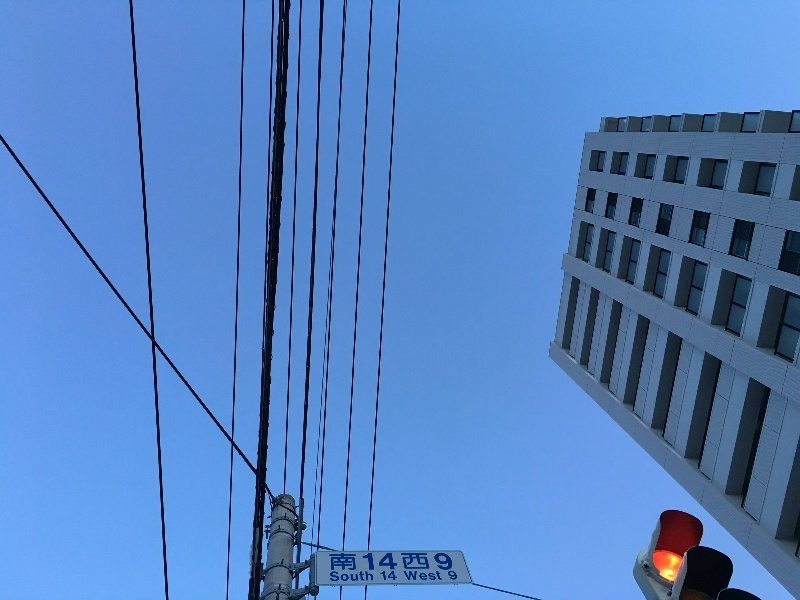text: (337, 552, 352, 573), (353, 552, 368, 573), (369, 552, 384, 573), (385, 552, 400, 573), (401, 552, 416, 573), (417, 552, 432, 573), (433, 552, 448, 573), (417, 570, 432, 583), (337, 571, 352, 583), (353, 571, 368, 583), (403, 570, 416, 583), (385, 570, 398, 582), (329, 552, 336, 573), (433, 570, 444, 583), (449, 552, 455, 573), (449, 570, 459, 581), (330, 571, 336, 583), (369, 571, 375, 583), (380, 570, 384, 582), (447, 570, 448, 581)
